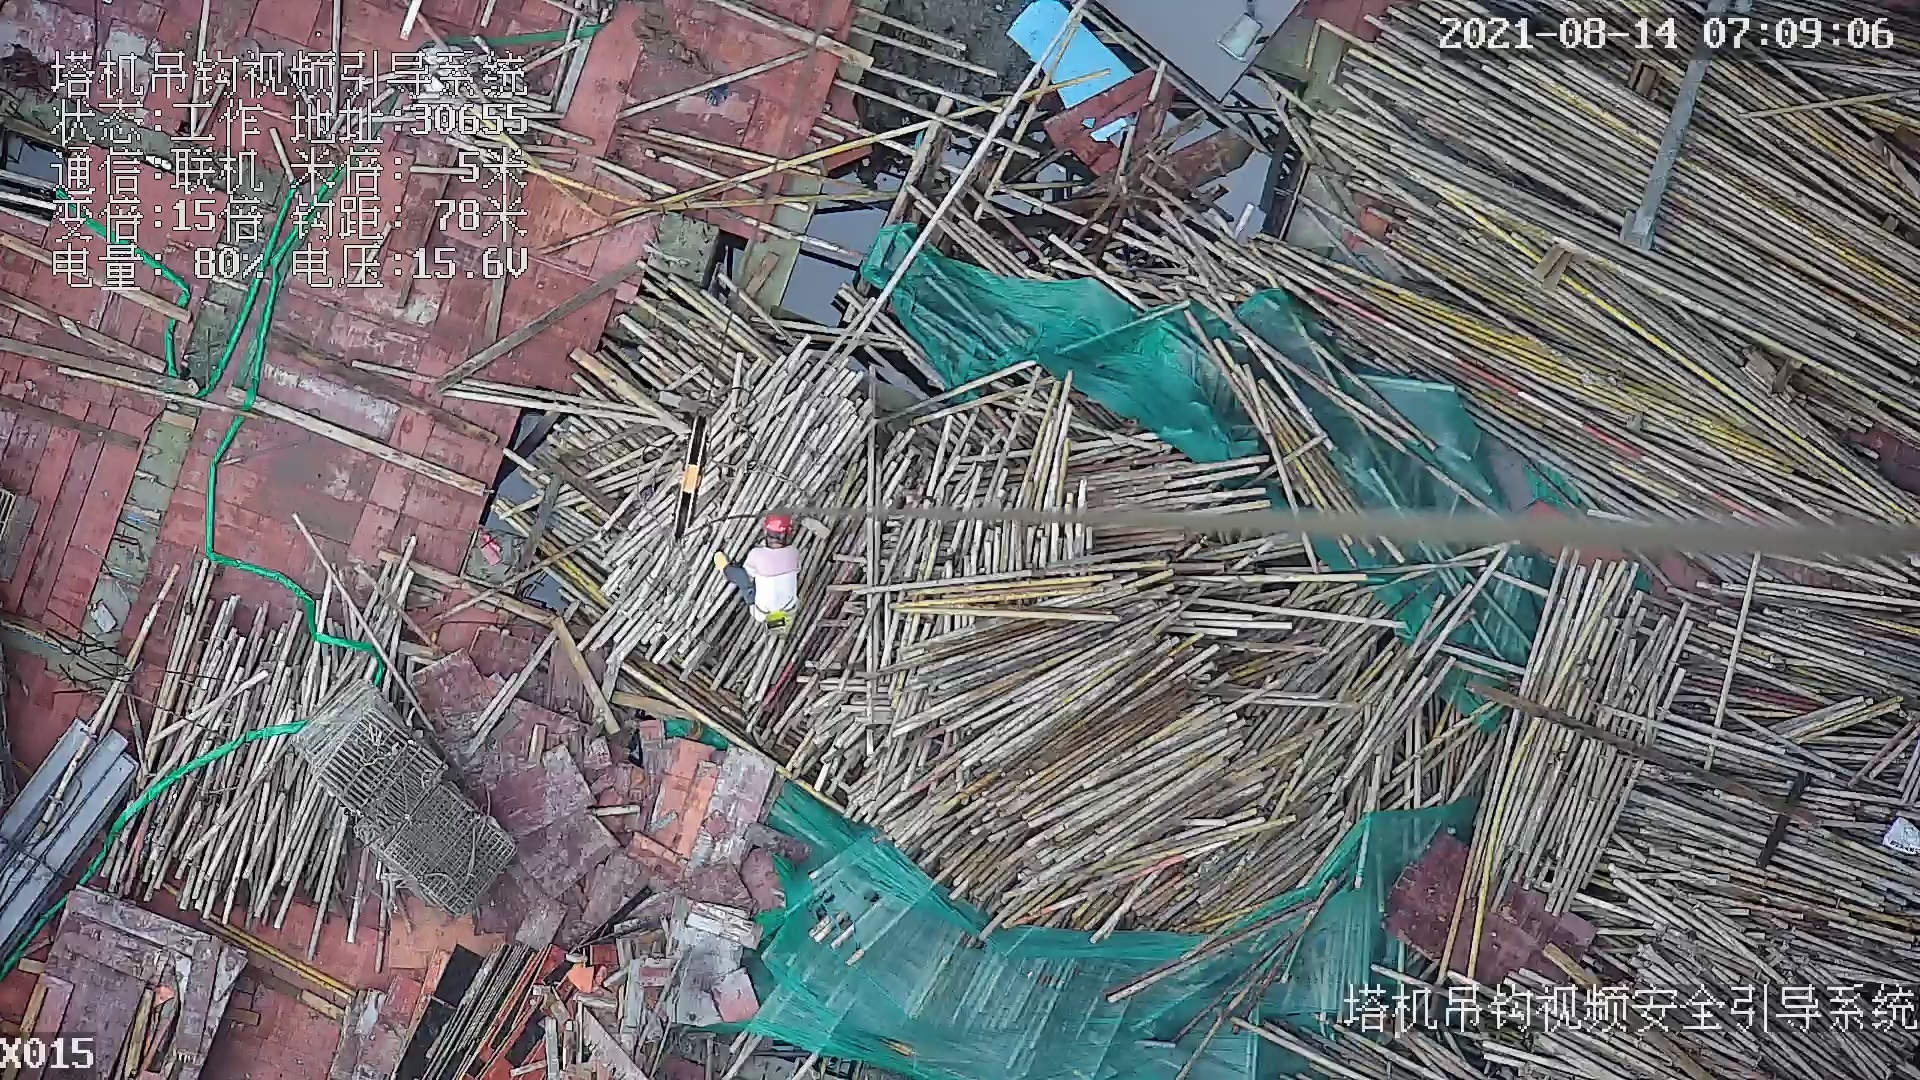helmet: (764, 512, 792, 541)
hook: (667, 410, 719, 555)
person: (724, 504, 800, 627)
